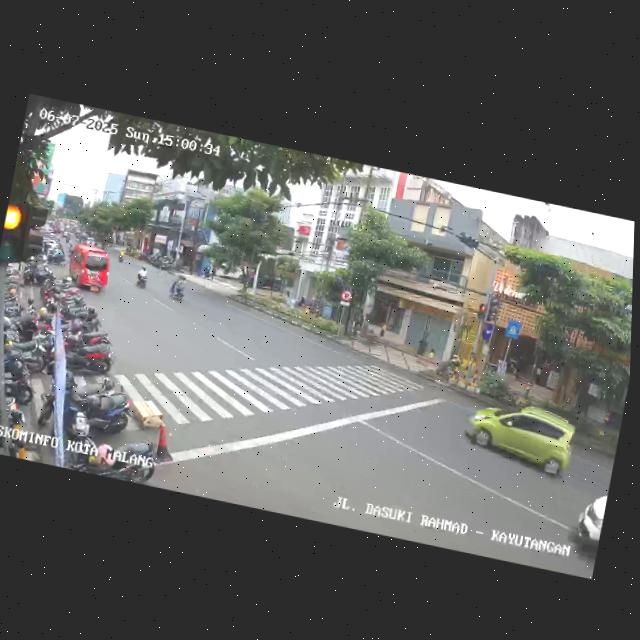car: (461, 394, 582, 481), (568, 481, 608, 566), (64, 242, 114, 297)
motorcycle: (168, 271, 190, 304), (132, 262, 152, 291), (115, 247, 127, 264)
